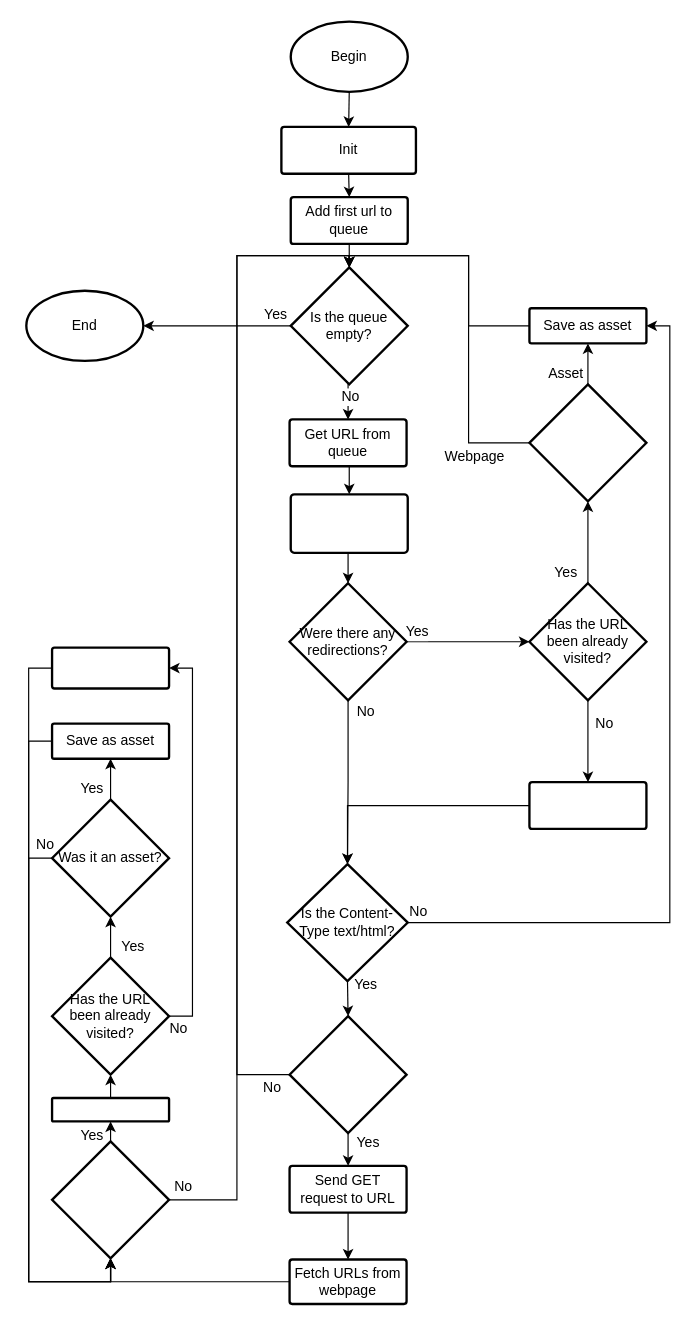
This 700x1324 diagram has some shape labels left out. Each missing label, with the centre of its shape:
Add url to queue: (x=110, y=667)
Are there any urls left to check?: (x=110, y=1199)
Are we on the same domain and subdomain?: (x=347, y=1074)
Get next URL: (x=110, y=1109)
Save redirection: (x=587, y=805)
Send HEAD request to URL: (x=348, y=523)
Was it an asset or a webpage?: (x=587, y=442)
